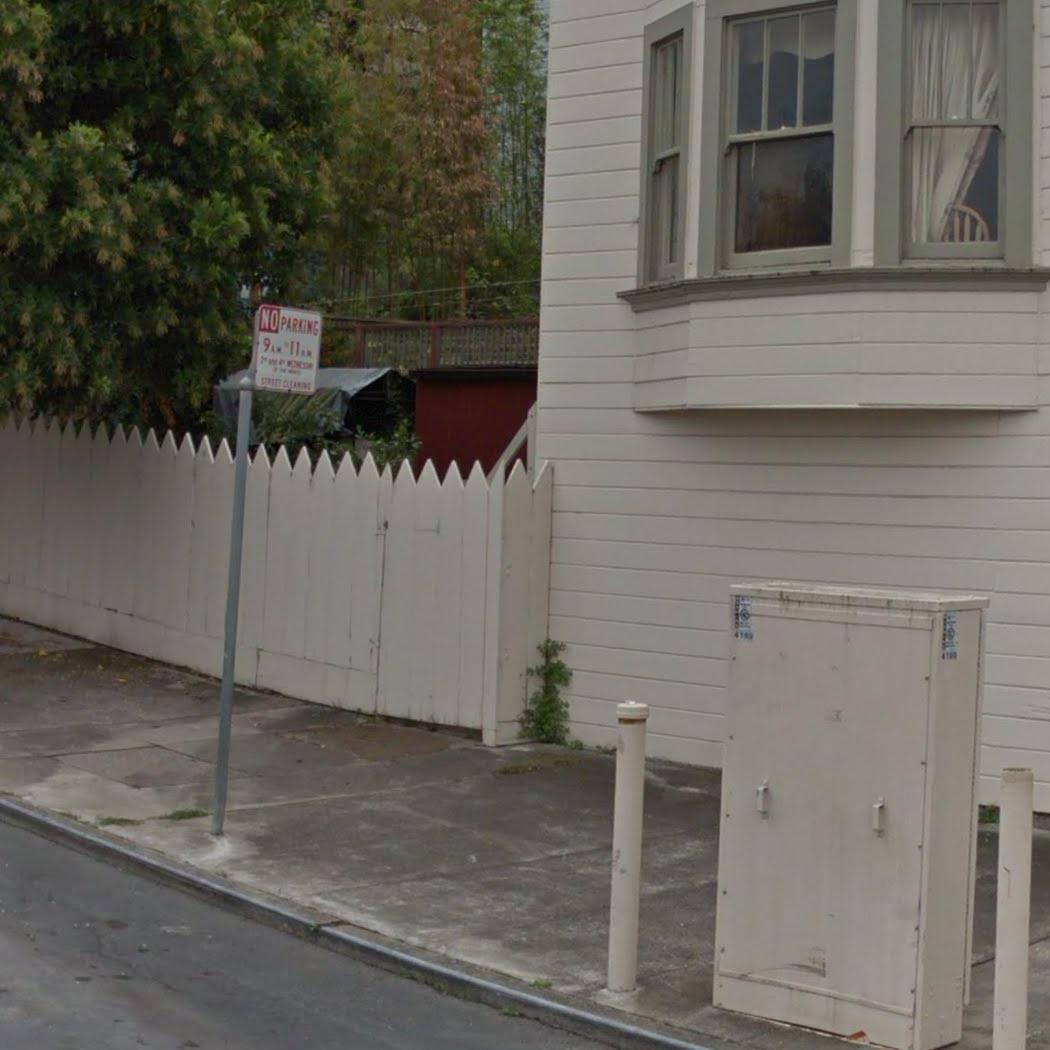No Parking: (243, 298, 331, 403)
